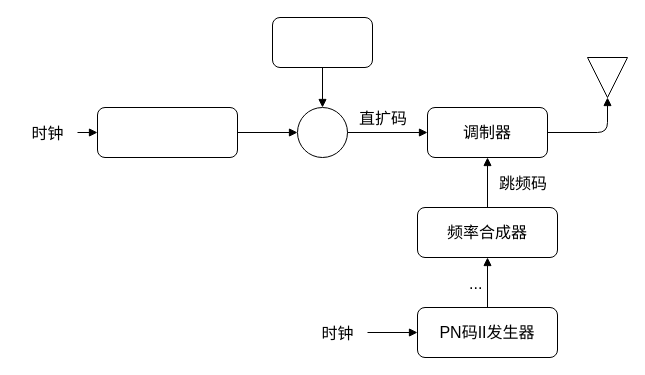
Some shapes in this 645 by 375 pixel diagram are drawn without their labels. Each missing label, with the centre of its shape:
"PN码I发生器" goes at (x=167, y=132).
"信源" goes at (x=322, y=42).
